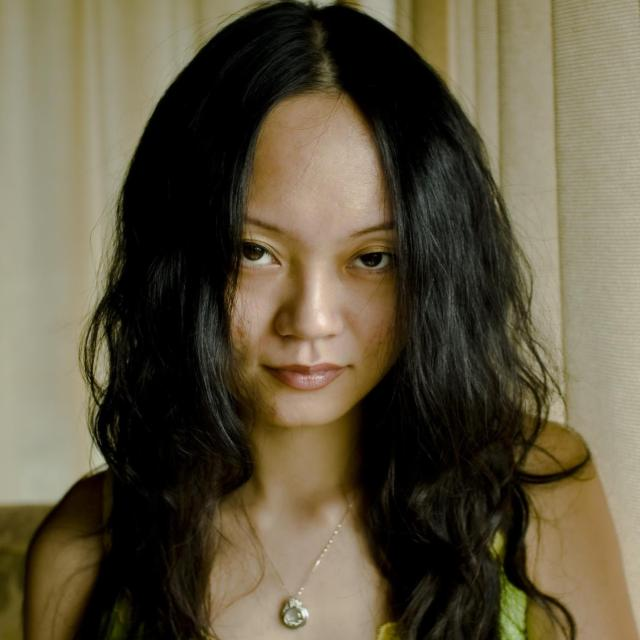no-glass: (223, 240, 391, 276)
